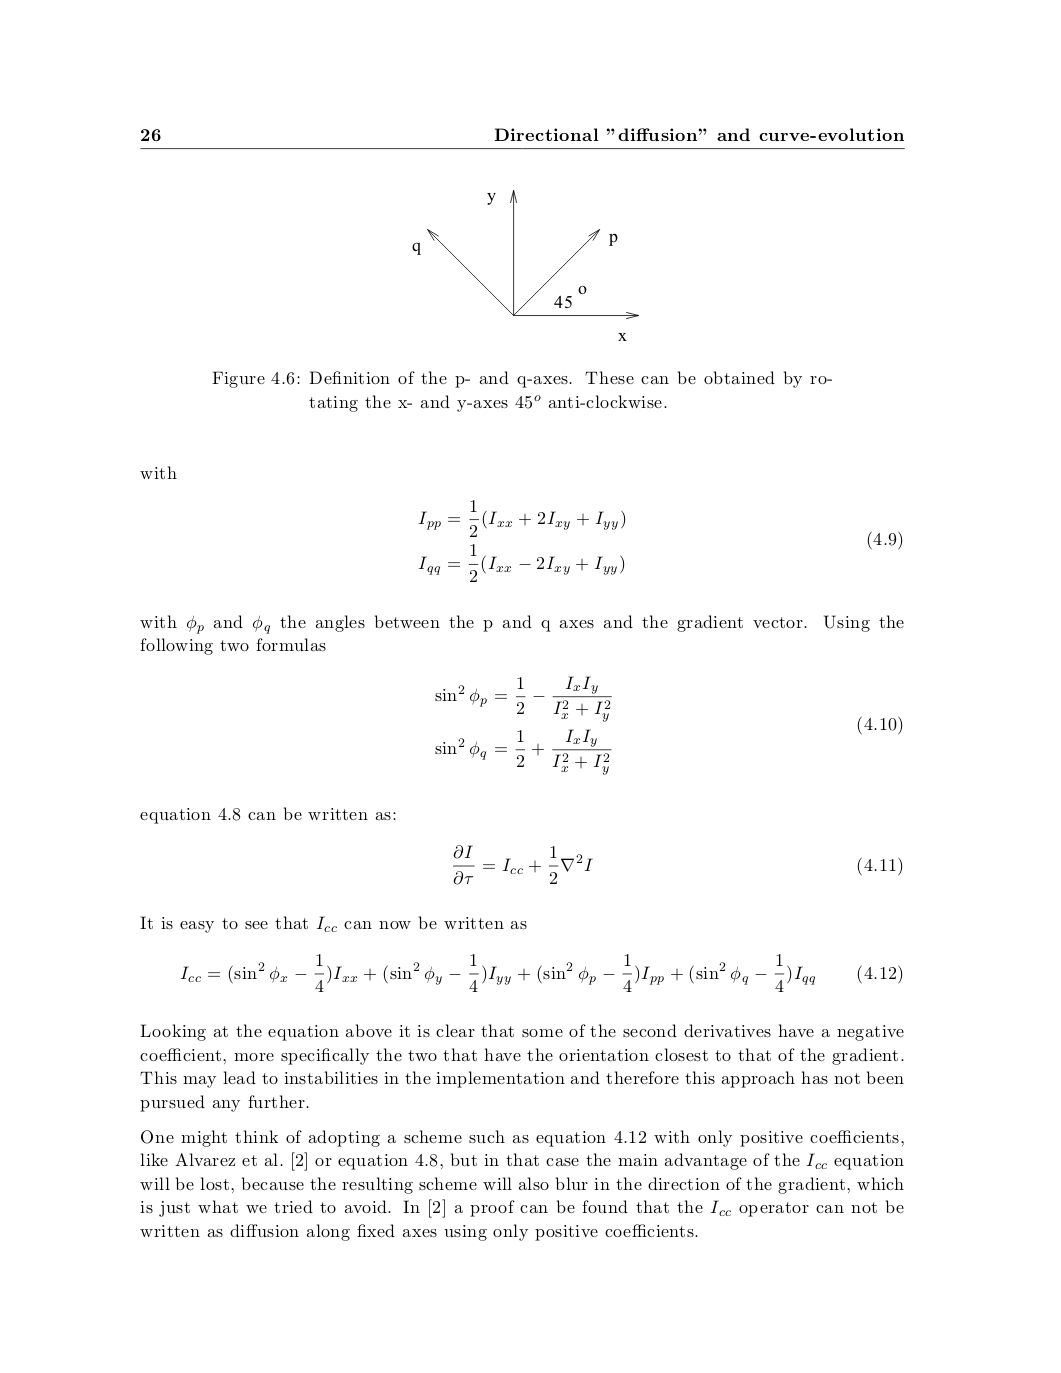figure: (412, 189, 637, 319)
formula: (181, 952, 902, 992), (452, 844, 902, 885), (435, 675, 611, 722), (435, 728, 611, 775), (418, 543, 624, 582), (418, 499, 625, 537)
